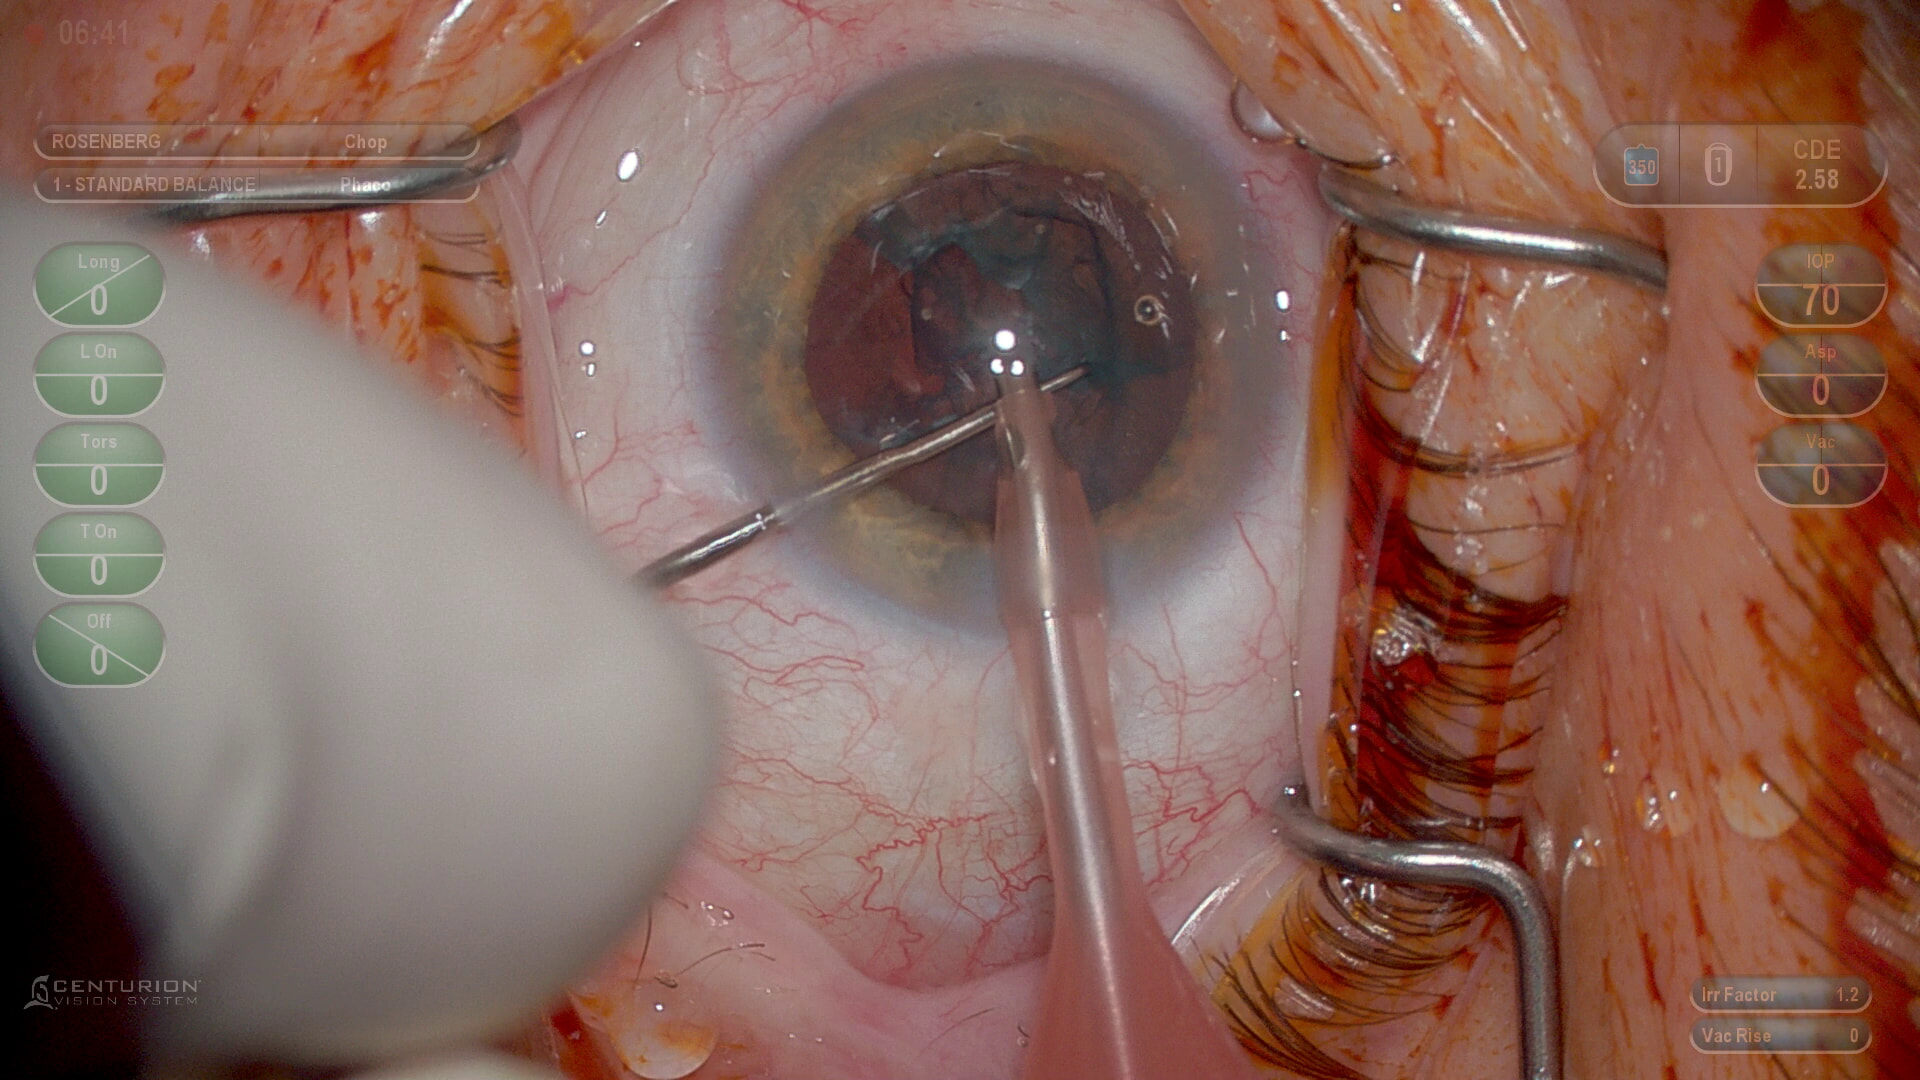iris: (737, 61, 1272, 609)
pupil: (810, 168, 1198, 522)
